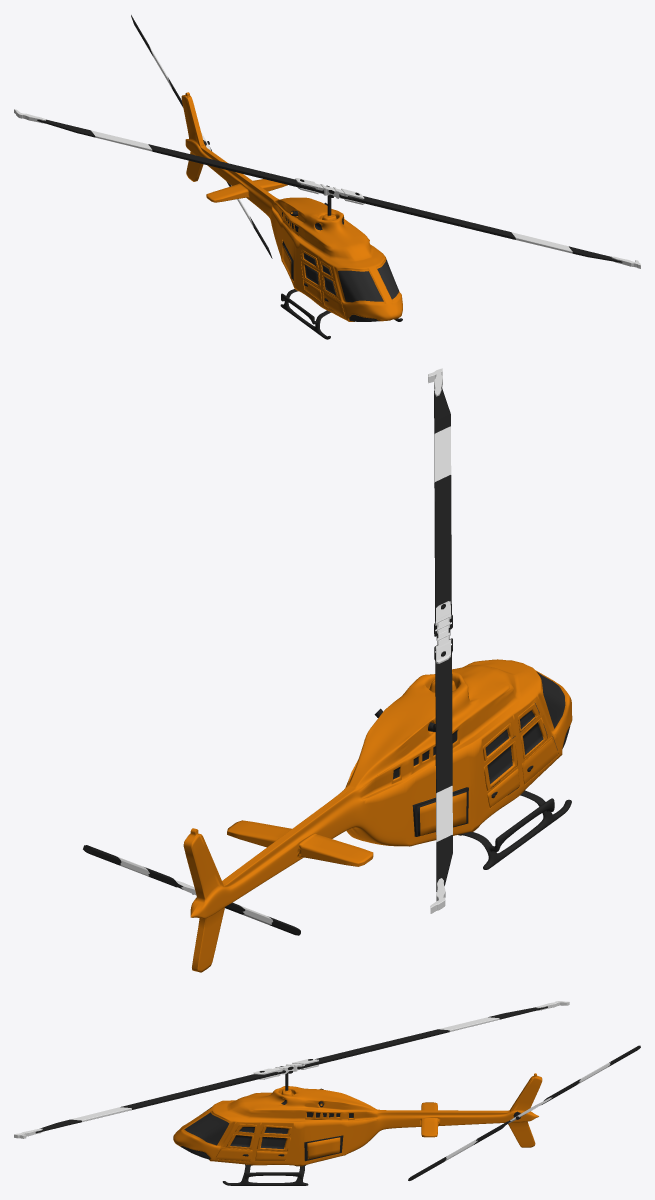
The model's file is Heli_bell.fbx.
The picture shows the model from 3 angles, top to bottom: view 1: azimuth 30°, elevation 25°; view 2: azimuth 150°, elevation 25°; view 3: azimuth 270°, elevation 25°; orthographic projection. The views are drawn at different scales.
Visible parts, largest first — view 1: body_helicopter, baling baling_1, baling-baling_2; view 2: body_helicopter, baling baling_1, baling-baling_2; view 3: body_helicopter, baling baling_1, baling-baling_2.
Boxes of the visible parts, x1,y1,x2,y2 form: body_helicopter: (181,92,402,339); baling baling_1: (14,109,640,268); baling-baling_2: (131,15,272,258); body_helicopter: (183,659,572,972); baling baling_1: (428,368,452,913); baling-baling_2: (83,845,300,935); body_helicopter: (173,1073,542,1185); baling baling_1: (14,1001,569,1138); baling-baling_2: (408,1045,640,1180).
Size of the model in its own units: 1553 by 709 by 3058.
